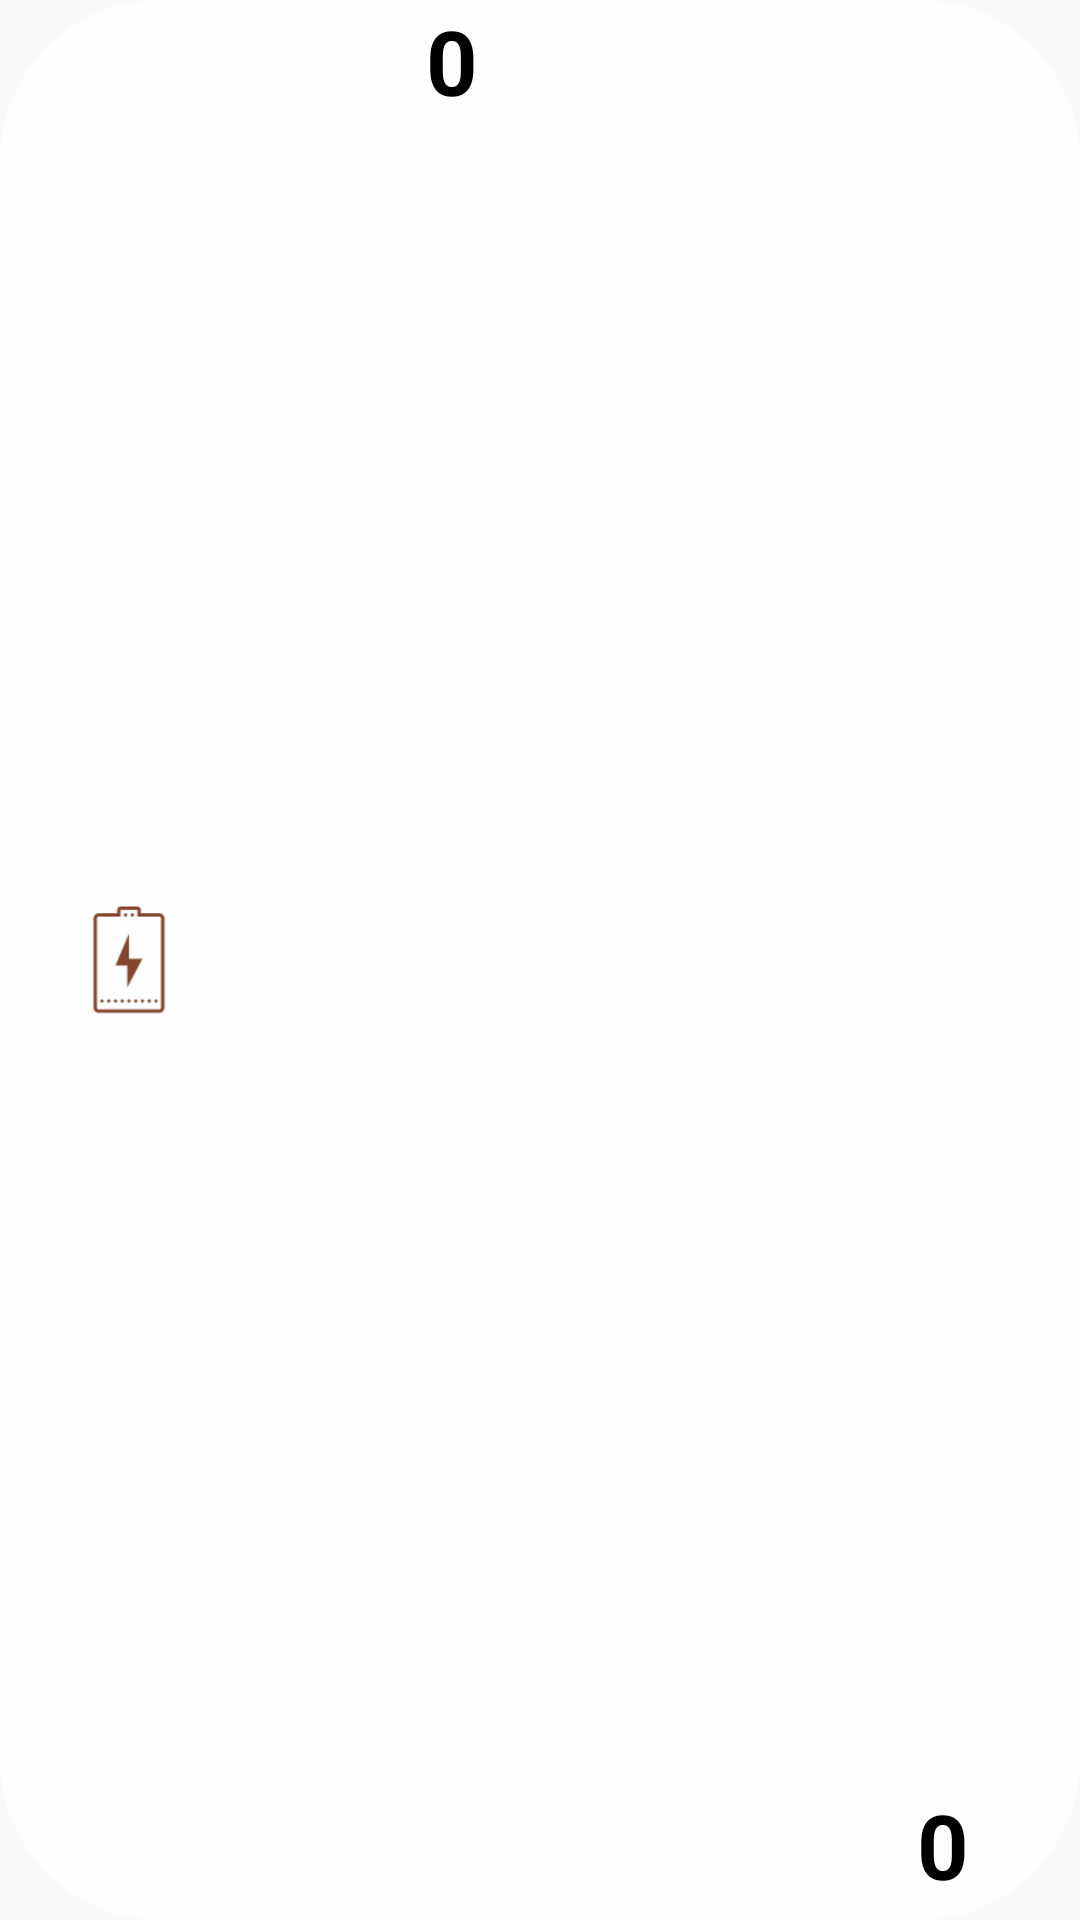

Where to tap for icons on this 1080×1920 app screen, as (x=x, y=y):
battery: (x=129, y=960)
